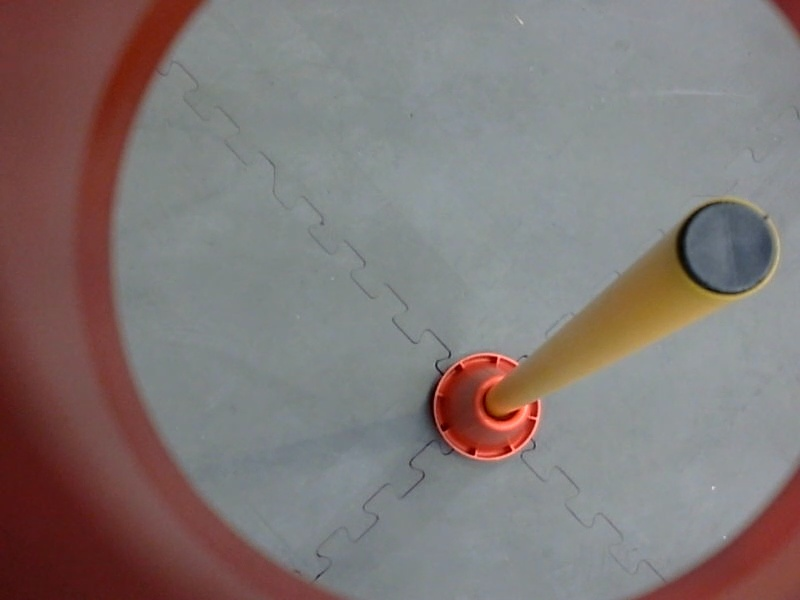tip: (670, 192, 787, 307)
